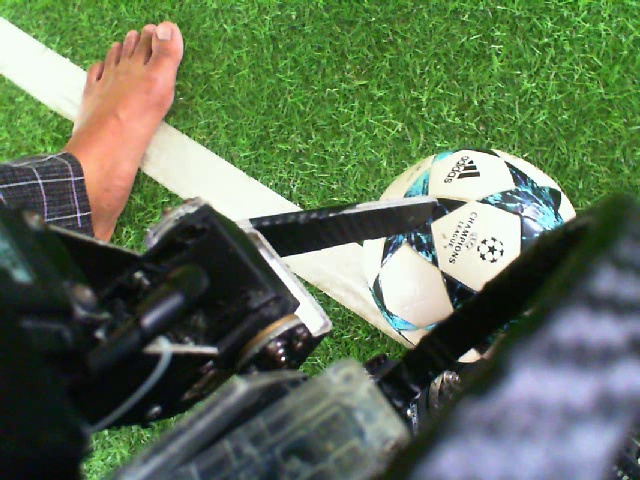ball: (360, 145, 579, 300)
